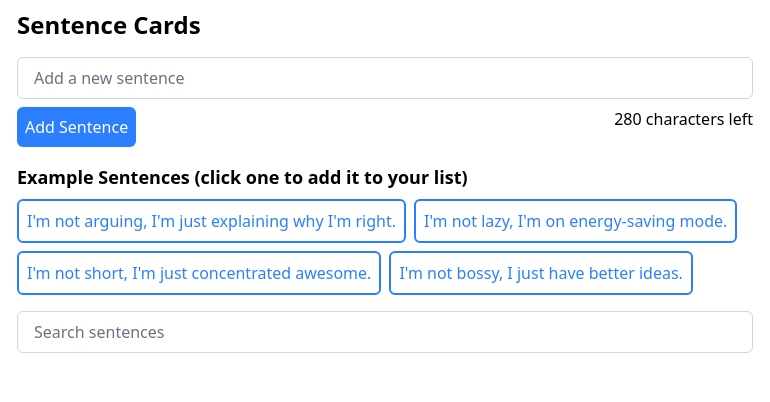
SentenceCards › shows error for empty sentence
Click the button "Add Sentence" at (77, 127), box [17,107,136,147]
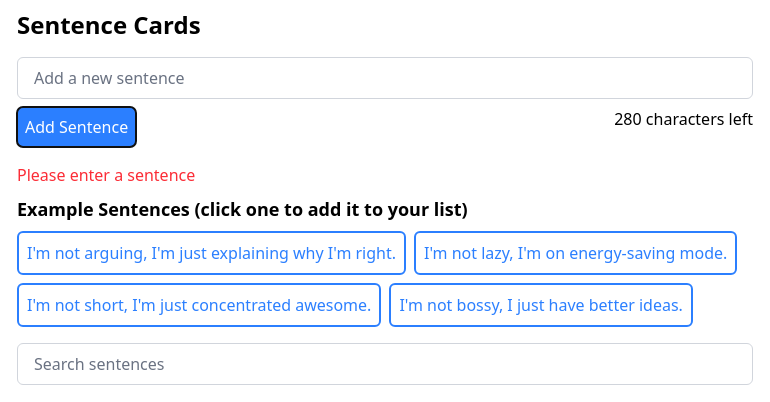
Result: the text "Please enter a sentence" is shown at [17,164,195,186]
